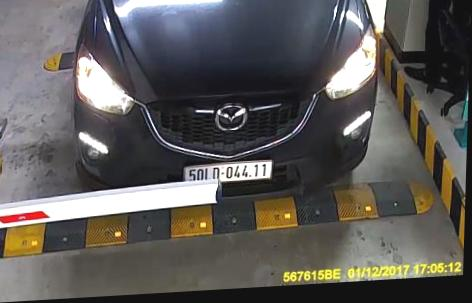License_Plate: (184, 149, 275, 190)
